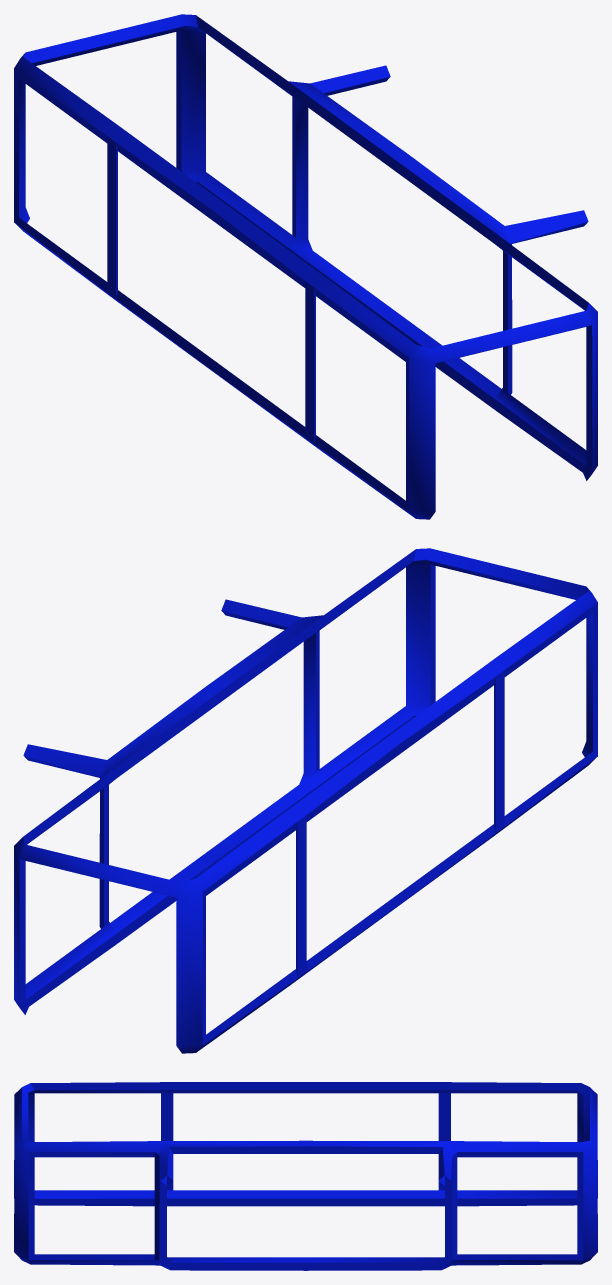
The model's file is Dark_Frame.2.fbx.
3 renders of one model, top to bottom at view 1: azimuth 30°, elevation 25°; view 2: azimuth 150°, elevation 25°; view 3: azimuth 270°, elevation 25°, orthographic. The views are drawn at different scales.
Parts seen in each view (by area): view 1: Frame_02.001; view 2: Frame_02.001; view 3: Frame_02.001.
Part boxes in pixels (x1,y1,x2,y2): Frame_02.001: [14, 14, 597, 519]; Frame_02.001: [14, 548, 597, 1053]; Frame_02.001: [14, 1082, 597, 1270].
Size of the model in its own units: 704 by 436 by 1851.
